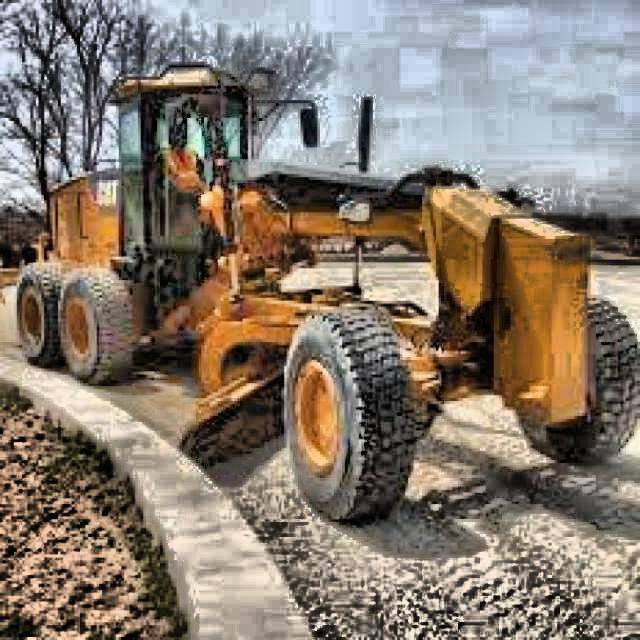bull_dozer/loader/grader: (14, 57, 640, 530)
person: (158, 122, 207, 187)
